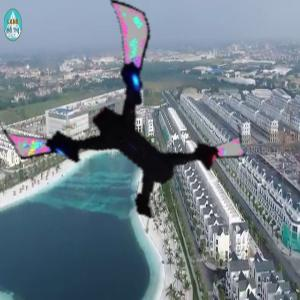drone: (9, 23, 223, 237)
